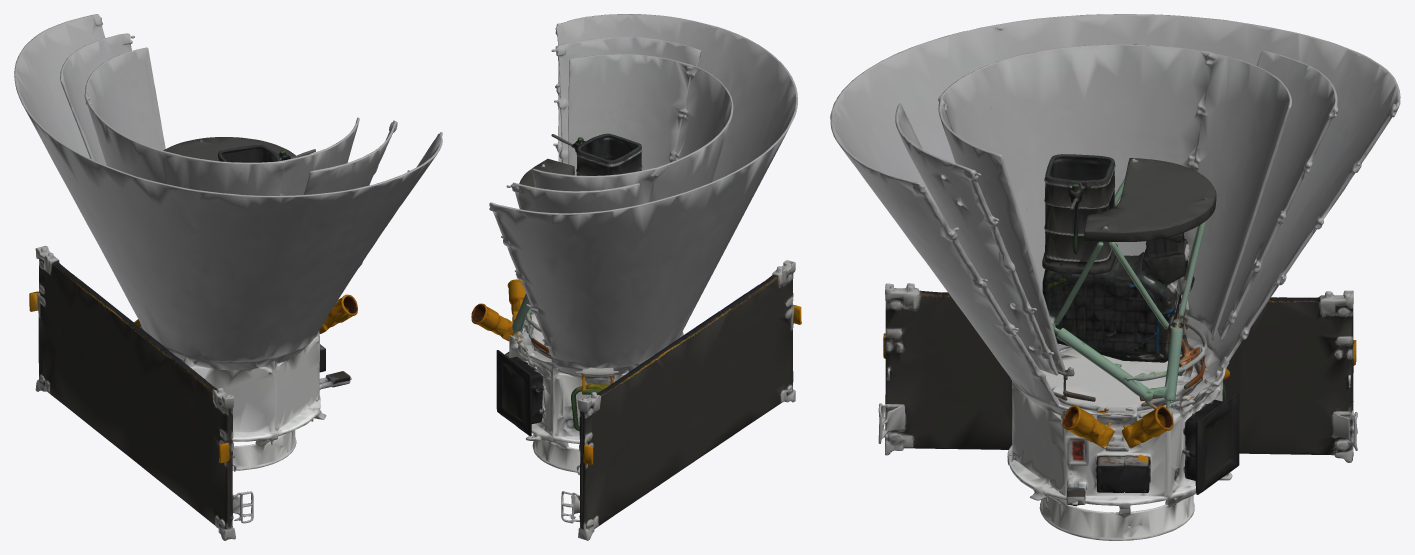
File: spherex.glb
The picture shows the model from 3 angles, left to right: view 1: azimuth 30°, elevation 25°; view 2: azimuth 150°, elevation 25°; view 3: azimuth 270°, elevation 25°; orthographic projection. The views are drawn at different scales.
Parts seen in each view (by area): view 1: tripo_node_6defef71-ea4c-4737-8e6c-8390b9f2ff2f; view 2: tripo_node_6defef71-ea4c-4737-8e6c-8390b9f2ff2f; view 3: tripo_node_6defef71-ea4c-4737-8e6c-8390b9f2ff2f.
Boxes of the visible parts, x1,y1,x2,y2 form: tripo_node_6defef71-ea4c-4737-8e6c-8390b9f2ff2f: (14,14,442,540); tripo_node_6defef71-ea4c-4737-8e6c-8390b9f2ff2f: (471,14,801,540); tripo_node_6defef71-ea4c-4737-8e6c-8390b9f2ff2f: (830,14,1400,540).
Size of the model in its own units: 0.7019 by 0.7723 by 0.9998.
Materials: 1 (1 with a texture image).
